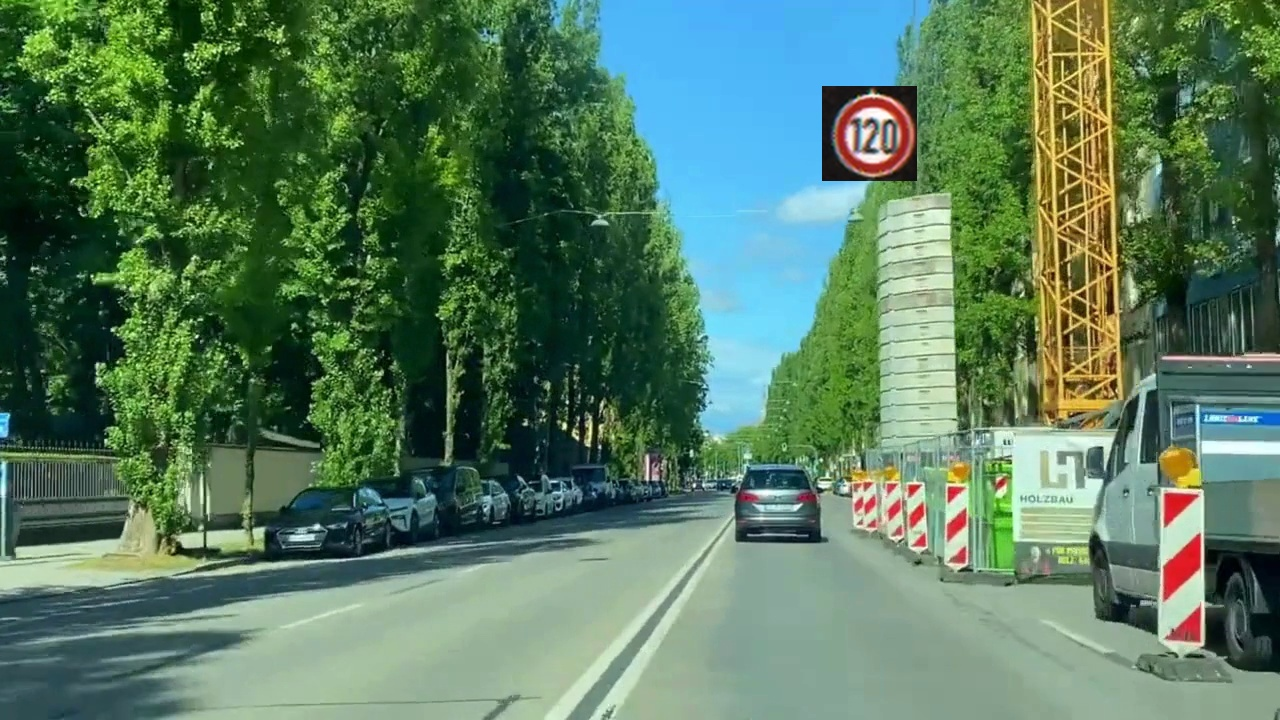Speed 120: (822, 86, 917, 181)
